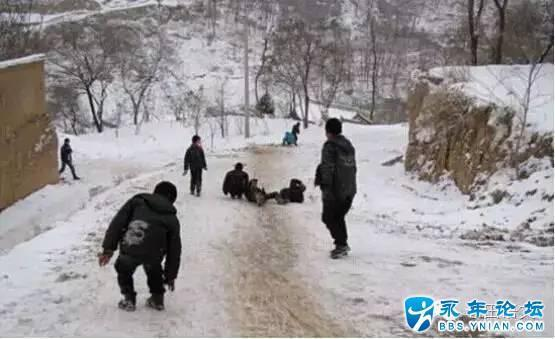Fall-Detected: (277, 116, 300, 145)
